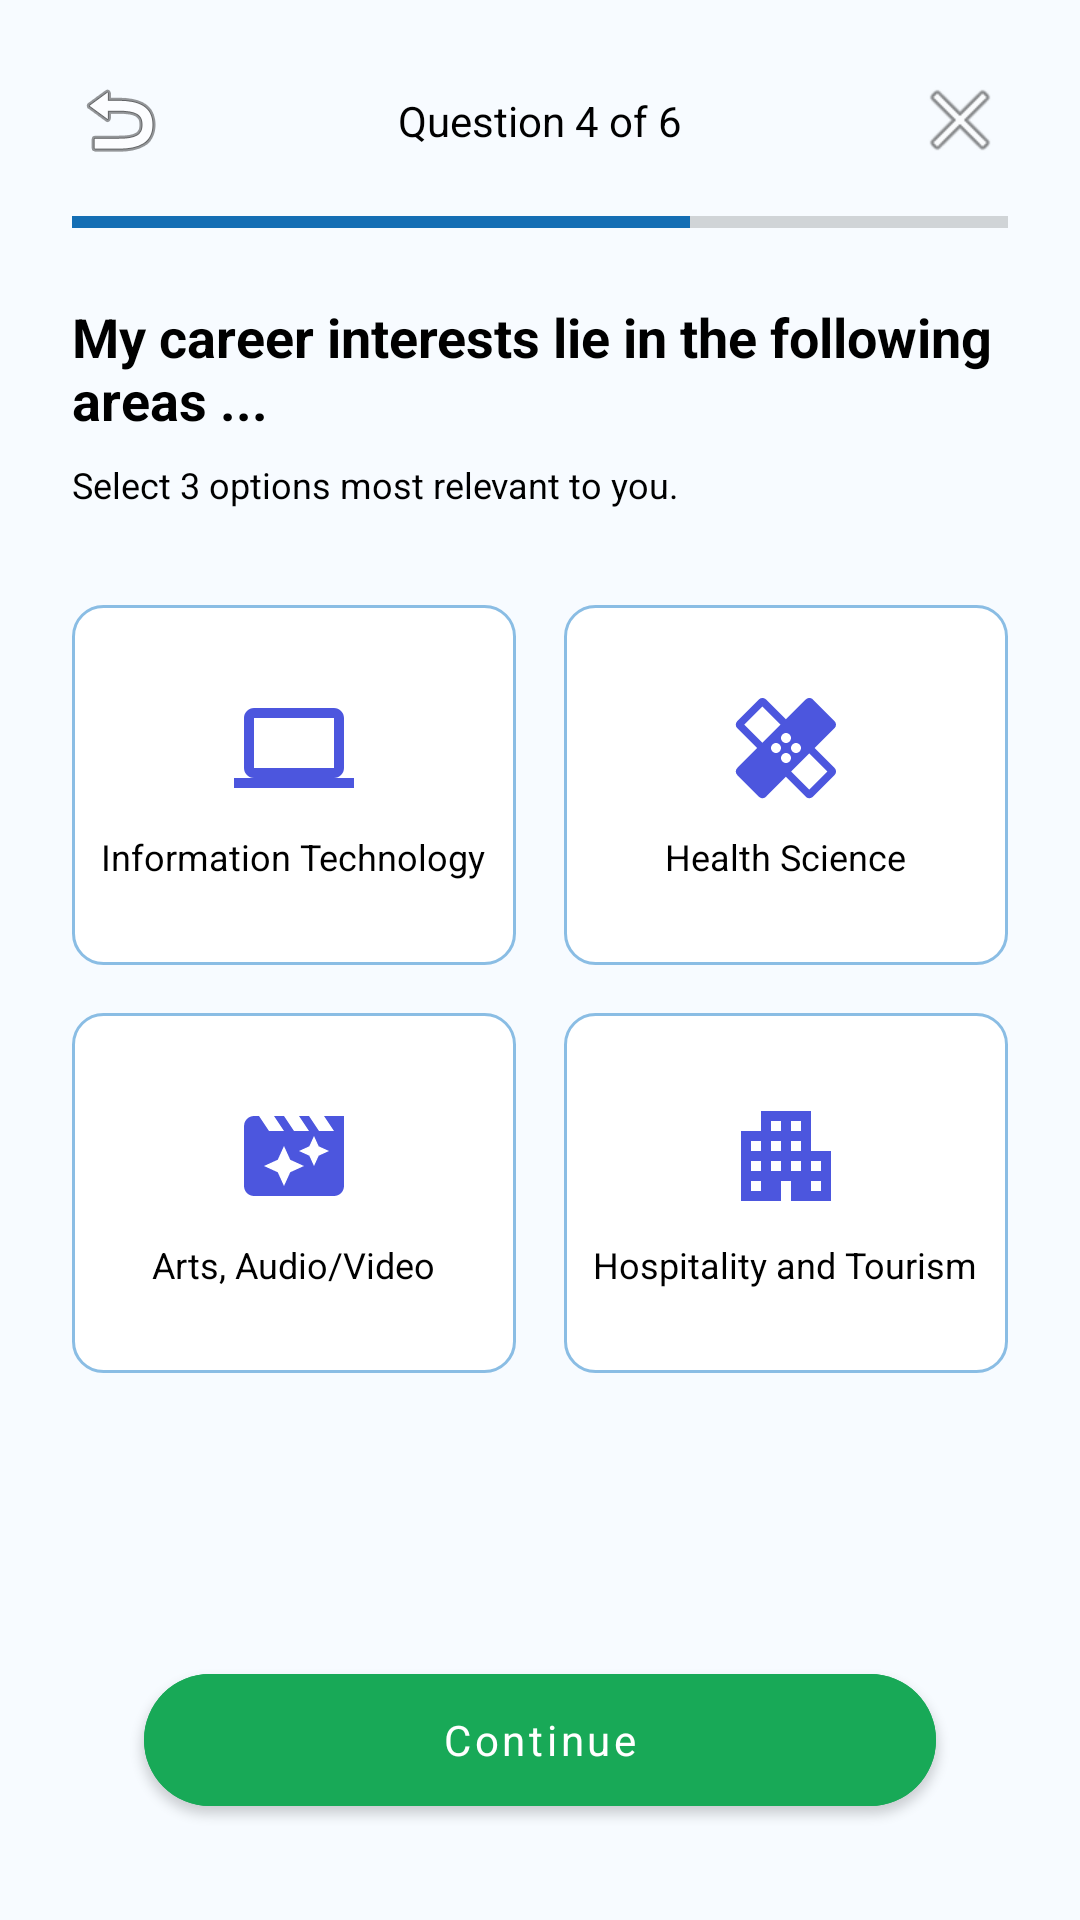

Locate icon controls on the screen. Image size 1080x1920, boxes as (x1, y1, x2, y2).
apartment: (741, 1111, 831, 1201)
close clear cancel: (930, 90, 990, 150)
healing: (735, 698, 836, 799)
laptop: (234, 708, 354, 788)
movie filter: (244, 1116, 344, 1196)
revert: (87, 89, 156, 152)
